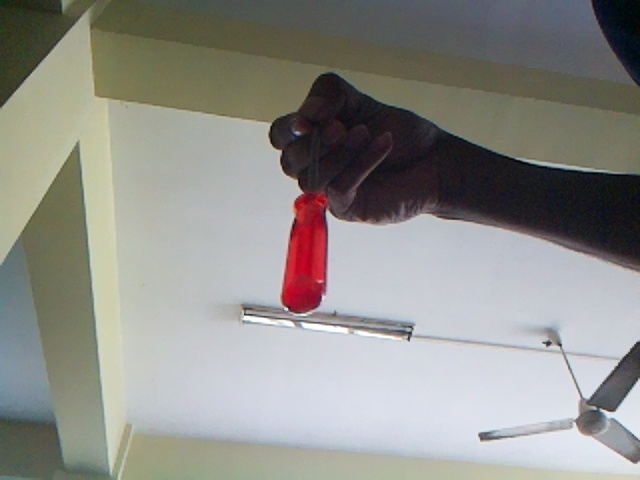redskrew: (279, 181, 340, 316)
